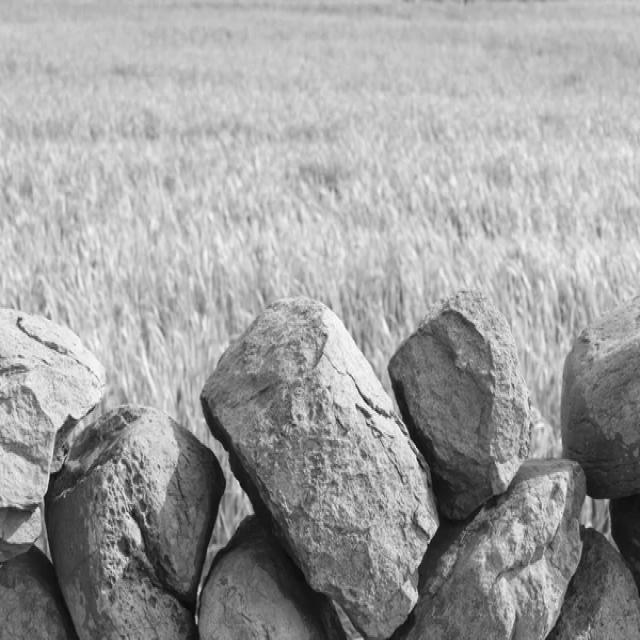Stone: (202, 298, 439, 639), (45, 405, 225, 640), (394, 461, 588, 640), (389, 288, 536, 521), (0, 309, 105, 511), (200, 517, 346, 640), (563, 296, 640, 498), (548, 526, 640, 640), (0, 549, 77, 640)
